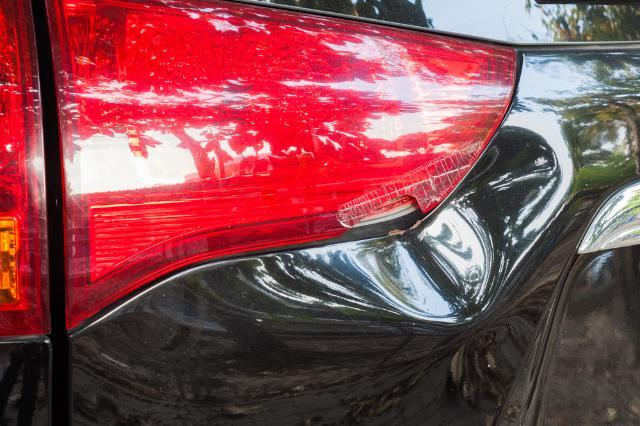dent: (345, 122, 571, 335)
lamp broken: (44, 0, 520, 334)
